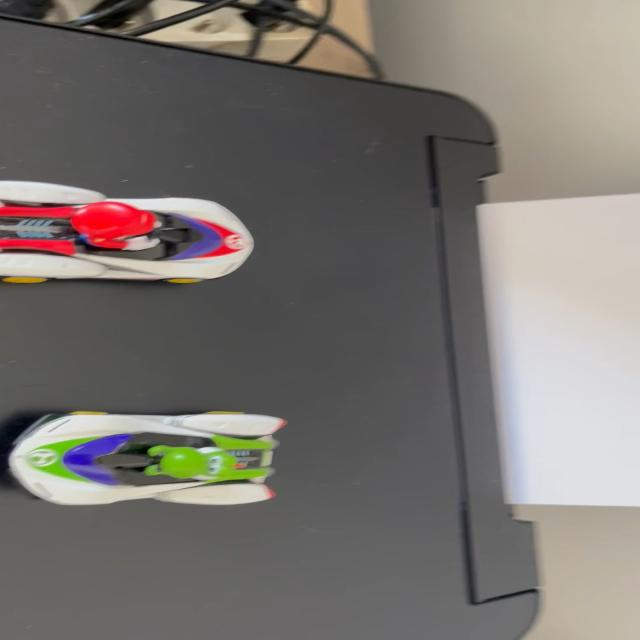mario: (3, 182, 278, 298)
yoshi: (2, 398, 308, 516)
